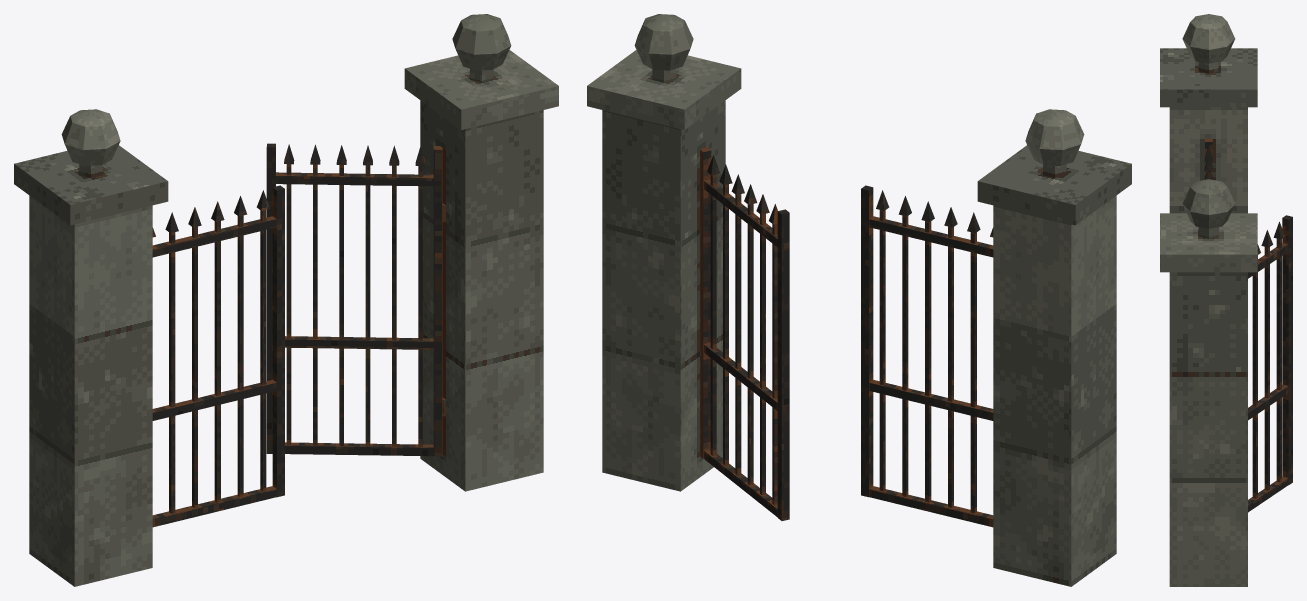
The model's file is Fence_Gate_01.glb.
3 views of the same model, side by side, from view 1: azimuth 30°, elevation 25°; view 2: azimuth 150°, elevation 25°; view 3: azimuth 270°, elevation 25° (orthographic). The views are drawn at different scales.
Parts seen in each view (by area): view 1: Fence_Gate_01; view 2: Fence_Gate_01; view 3: Fence_Gate_01.
Boxes of the visible parts, x1,y1,x2,y2 form: Fence_Gate_01: [14, 14, 558, 586]; Fence_Gate_01: [587, 14, 1131, 586]; Fence_Gate_01: [1160, 14, 1292, 586].
Bounding box in the file's own units: 2.5 × 2.21 × 0.6803.
Materials: 1 (1 with a texture image).
